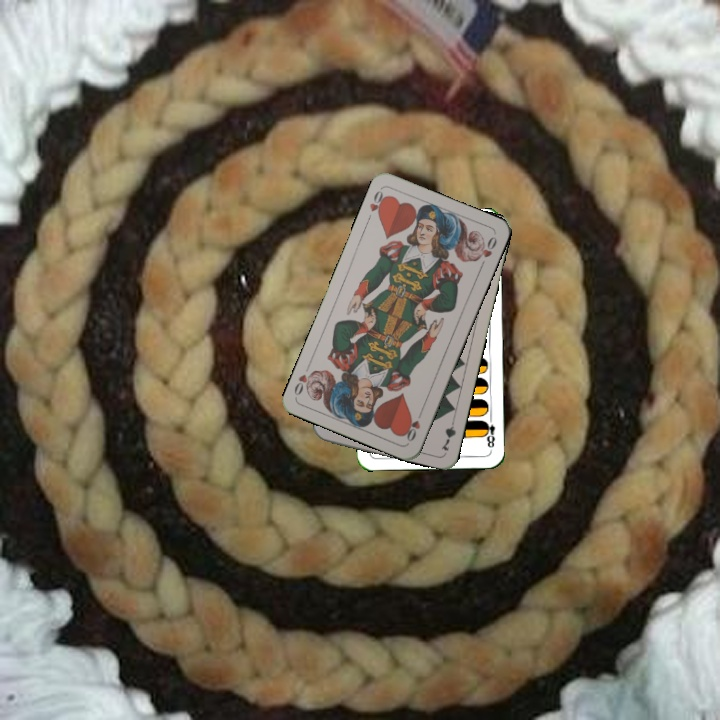E8: (480, 412, 497, 450)
G7: (437, 413, 458, 454)
HO: (363, 186, 390, 224), (401, 406, 425, 444)
